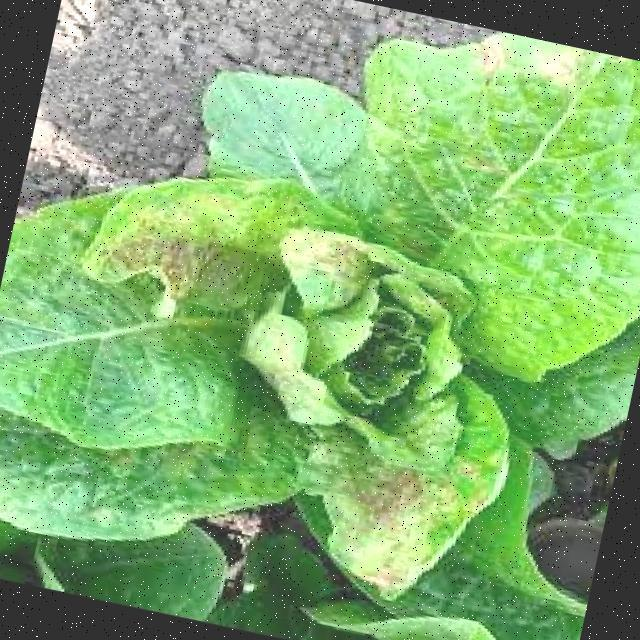Lettuce Mosaic Virus: (58, 175, 595, 598)
